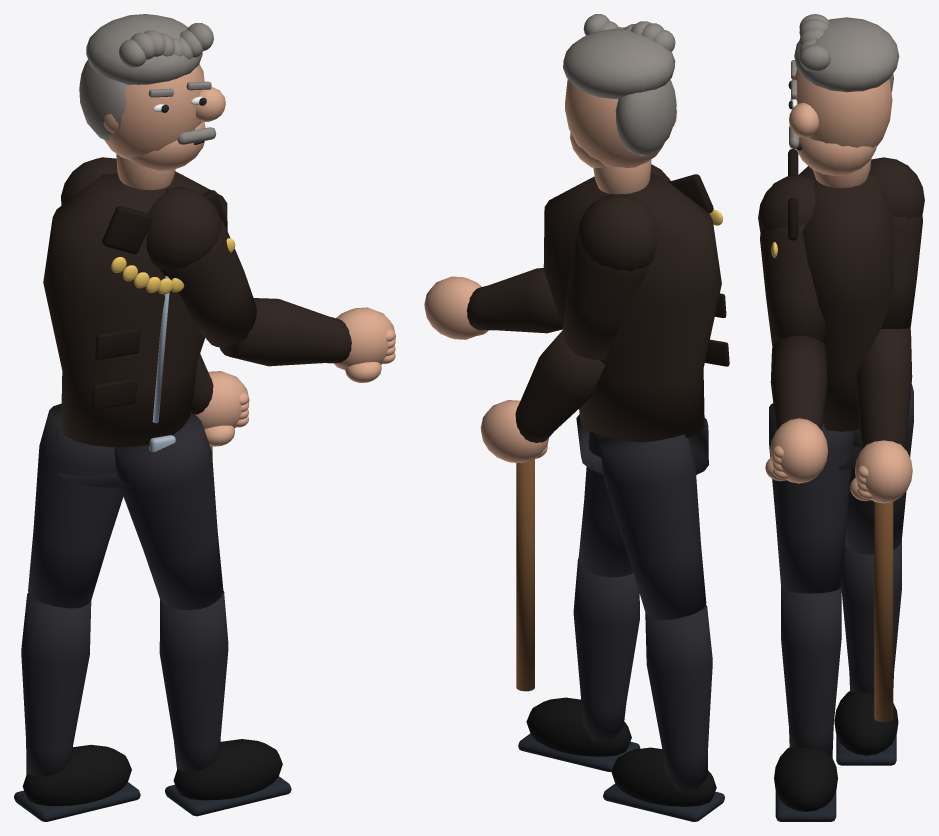
File: dragan.glb
The picture shows the model from 3 angles, left to right: view 1: azimuth 30°, elevation 25°; view 2: azimuth 150°, elevation 25°; view 3: azimuth 270°, elevation 25°; orthographic projection. The views are drawn at different scales.
Visible parts, largest first — view 1: Fitted torso.002, Trouser thigh.004, Trouser thigh.005, Lower leg.005, Lower leg.004, Forearm.004, Upper arm.004, Head.002, Rounded shoulder.004, Hair crown.002, Boot.004, Boot.005 (+15 smaller); view 2: Fitted torso.002, Trouser thigh.005, Lower leg.005, Lower leg.004, Hair crown.002, Upper arm.005, Forearm.005, Rounded shoulder.005, Forearm.004, Wooden cane, Trouser thigh.004, Head.002 (+10 smaller); view 3: Fitted torso.002, Trouser thigh.004, Lower leg.004, Forearm.005, Upper arm.004, Hair crown.002, Lower leg.005, Head.002, Forearm.004, Wooden cane, Boot.004, Upper arm.005 (+13 smaller).
Part boxes in pixels (x1,y1,x2,y2): Fitted torso.002: (43,171,227,447); Trouser thigh.004: (114,413,223,610); Trouser thigh.005: (28,403,123,608); Lower leg.005: (21,593,91,776); Lower leg.004: (159,591,228,771); Forearm.004: (219,298,351,366); Upper arm.004: (160,219,256,347); Head.002: (104,64,204,160); Rounded shoulder.004: (146,186,221,270); Hair crown.002: (86,14,202,84); Boot.004: (173,739,282,800); Boot.005: (22,744,131,806); Fitted torso.002: (543,173,721,442); Trouser thigh.005: (600,434,706,619); Lower leg.005: (645,605,712,791); Lower leg.004: (573,558,639,742); Hair crown.002: (563,28,675,98); Upper arm.005: (562,233,648,359); Forearm.005: (515,330,605,442); Rounded shoulder.005: (577,194,657,271); Forearm.004: (467,268,562,333); Wooden cane: (516,458,534,691); Trouser thigh.004: (578,431,633,577); Head.002: (565,79,664,167); Fitted torso.002: (799,166,893,431); Trouser thigh.004: (769,403,853,593); Lower leg.004: (781,587,841,757); Forearm.005: (856,328,912,449); Upper arm.004: (760,225,827,346); Hair crown.002: (794,17,899,92); Lower leg.005: (841,539,901,693); Head.002: (790,69,892,147); Forearm.004: (770,336,827,430); Wooden cane: (874,502,893,721); Boot.004: (774,747,837,811); Upper arm.005: (881,215,922,329).
Size of the model in its own units: 70.23 by 158 by 31.74.
